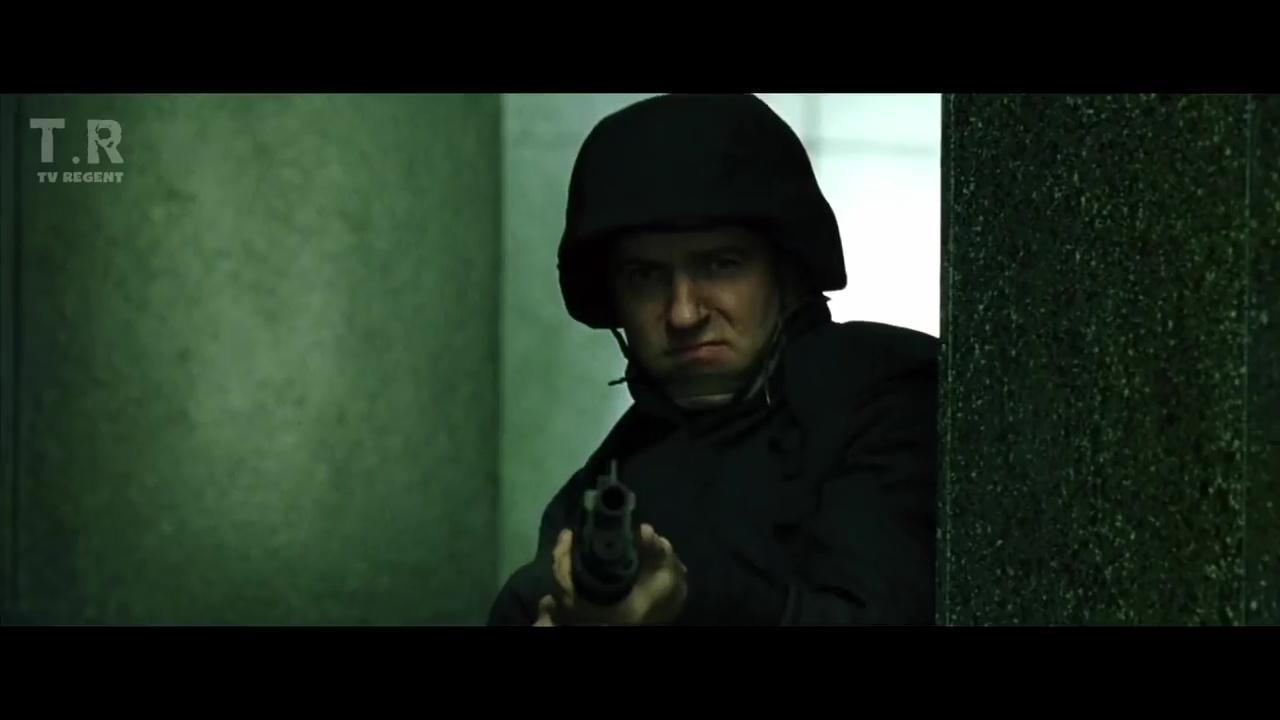Gun: (558, 452, 655, 608)
